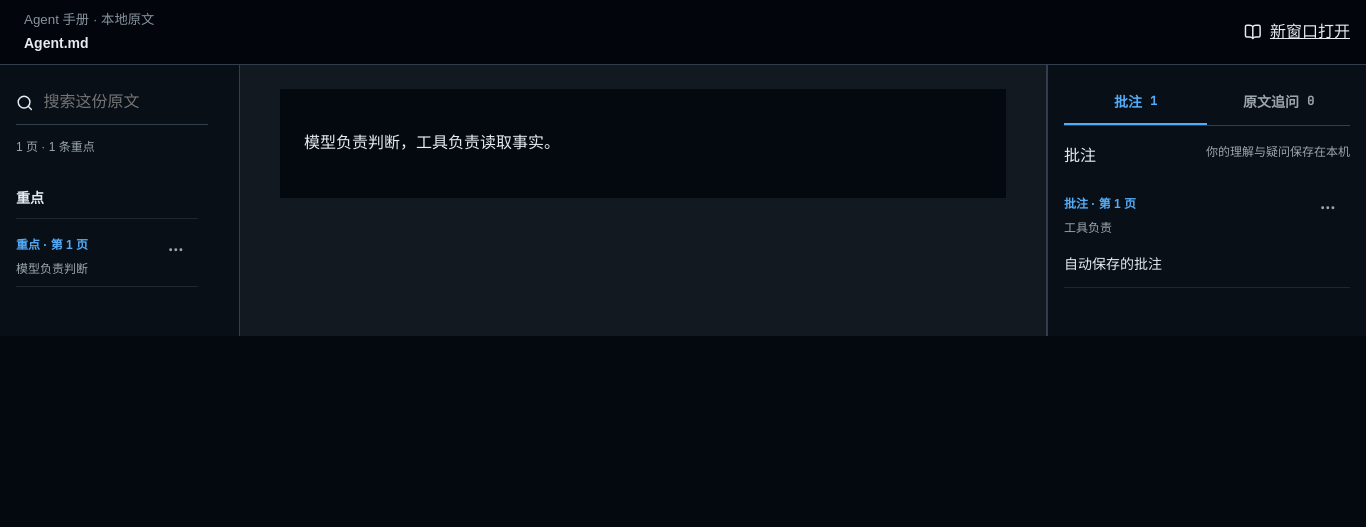
Test case: source workspace learning artifacts › keeps highlights on the left and annotations on the right tab
Expected: the text "1 页 · 1 条重点" is shown, [16,140,95,154]
Expected: the text "自动保存的批注" is shown, [1064,256,1162,272]
Click the tab "原文追问 0".
click(1278, 103)  # box [1207,81,1350,125]
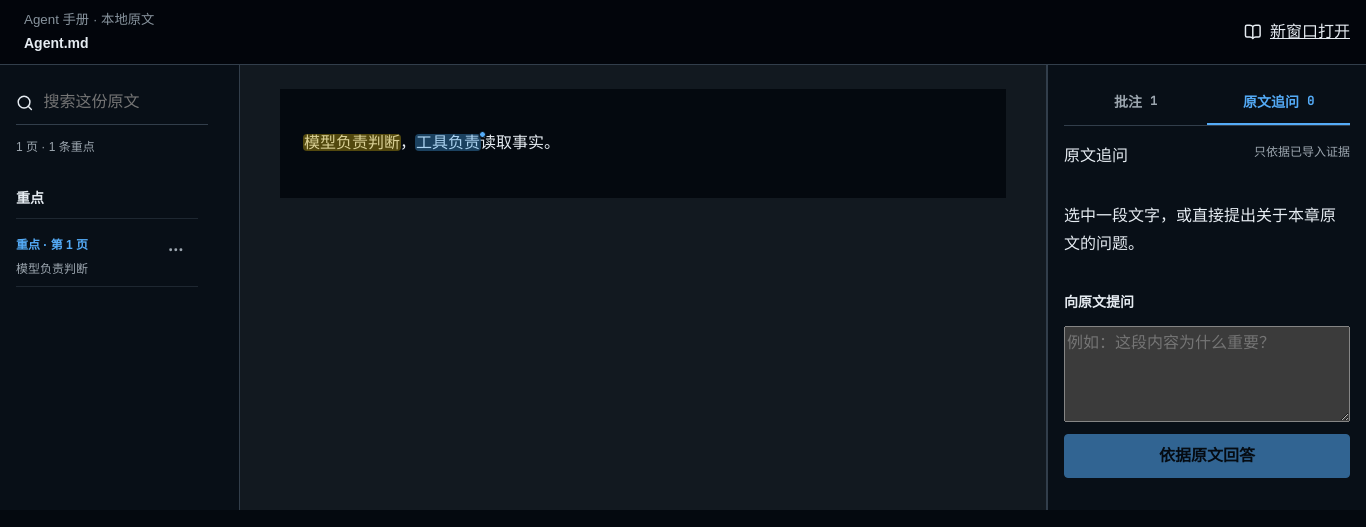
Now the text box labelled "向原文提问" is shown, box [1064,326,1350,422]
